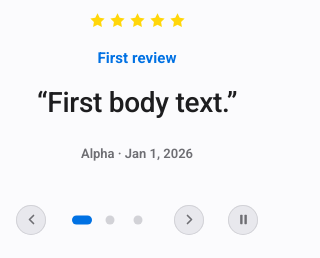
Test case: ReviewsCarousel › resumes auto-advance when the pause control is pressed again
Click the 3rd button: (243, 220) [221,198,265,242]
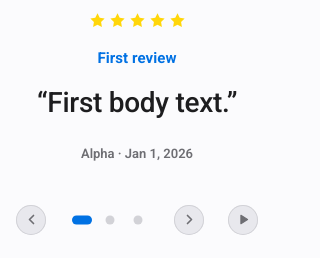
Click the 3rd button: (243, 220) [221,198,265,242]
Wait 6000 ms
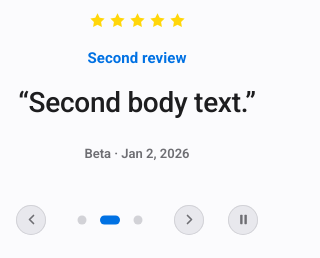
Expected: the heading reads "Second review", [87,49,187,67]
